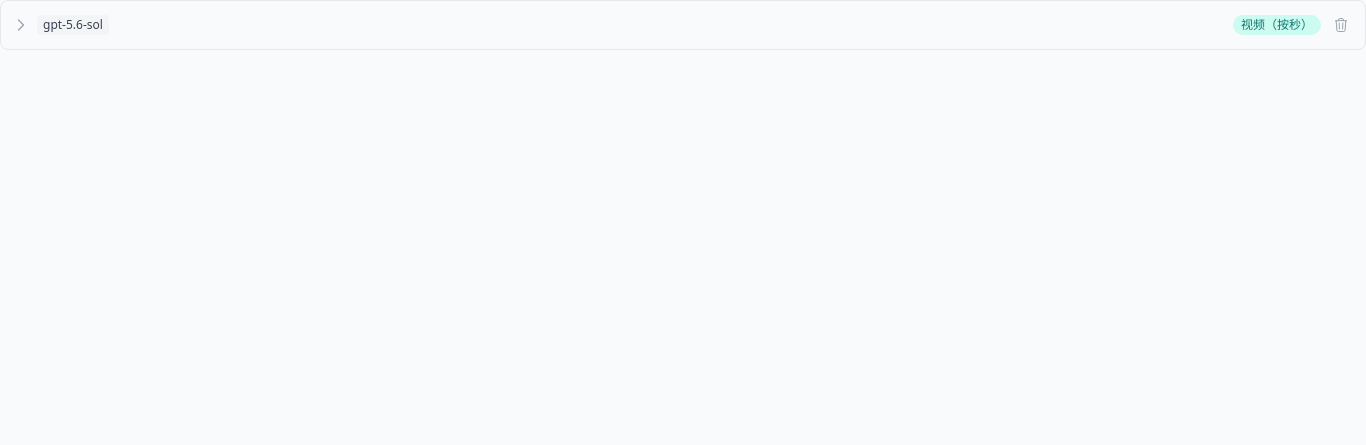
Test: PricingEntryCard video pricing › uses a semantic disclosure button linked to the collapsible content
The image size is (1366, 445).
Press Enter in the button "gpt-5.6-sol 视频（按秒）", box [13,15,1321,35]
Click the button "gpt-5.6-sol 视频（按秒）".
click(73, 25)  # box [13,15,1321,35]
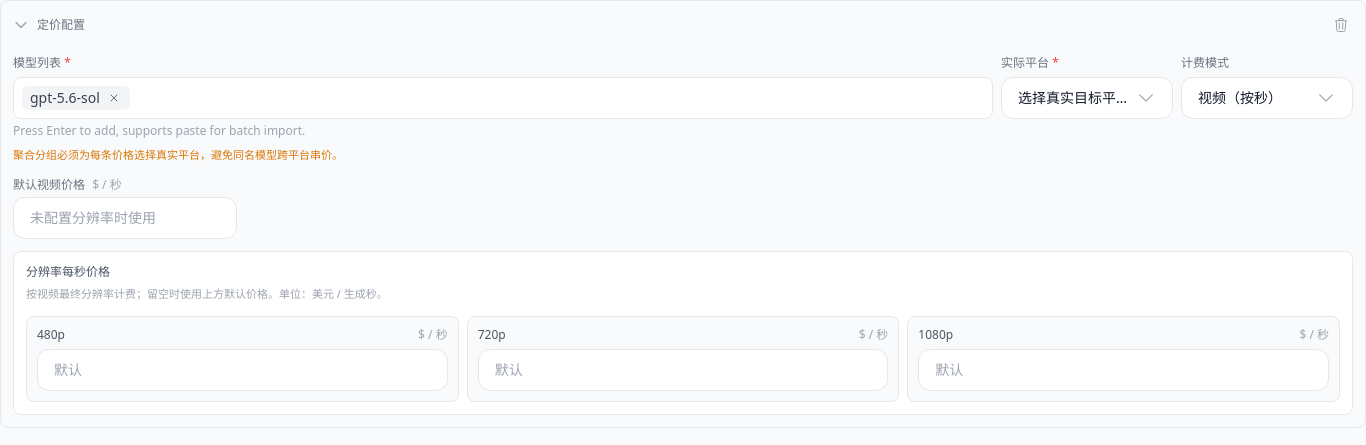
Now the button "定价配置" is expanded, box [13,17,1321,33]
